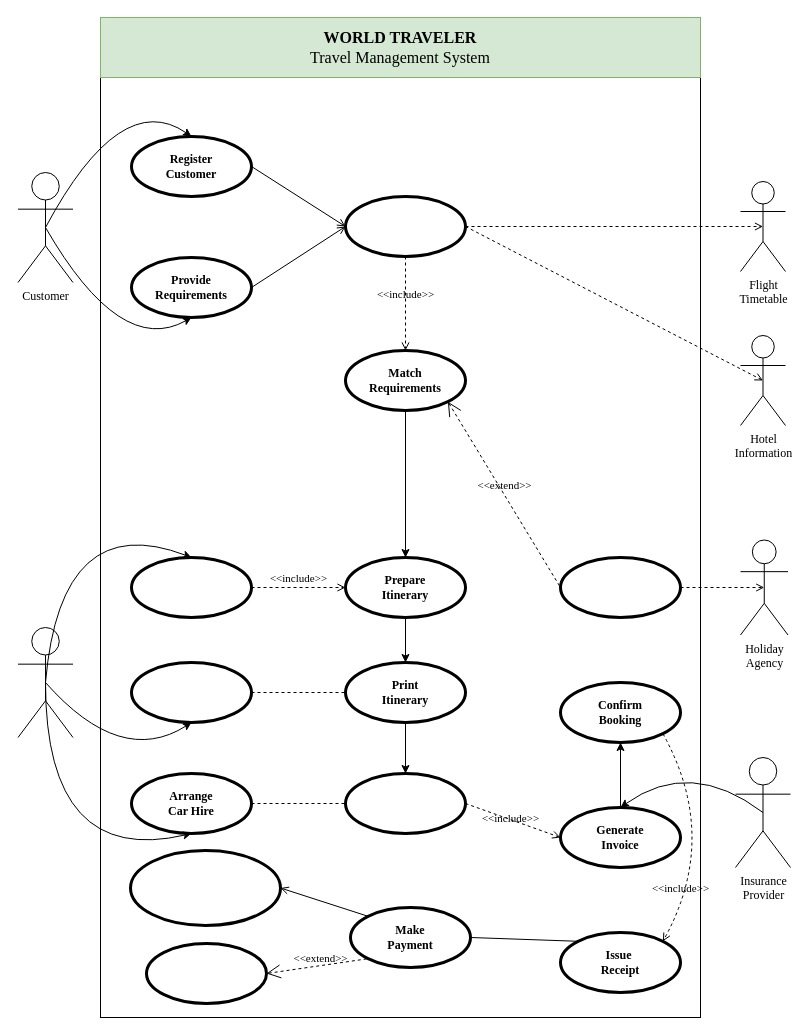
Image size: 809x1035. Some labels were removed from this diagram. The box of each missing label's shape, as (x1, y1, x2, y2) in pixels:
Accept Itinerary: (344, 772, 466, 834)
Arrange Insurance: (130, 660, 252, 724)
Make Booking: (130, 556, 252, 618)
Pay by Credit Card (1.5% Commission): (128, 848, 282, 926)
Pay Deposit (Later Payment): (144, 942, 268, 1004)
Sales Consultant: (17, 626, 73, 738)
Search Travel Options: (344, 194, 466, 258)
Suggest Alternatives: (558, 556, 682, 618)
